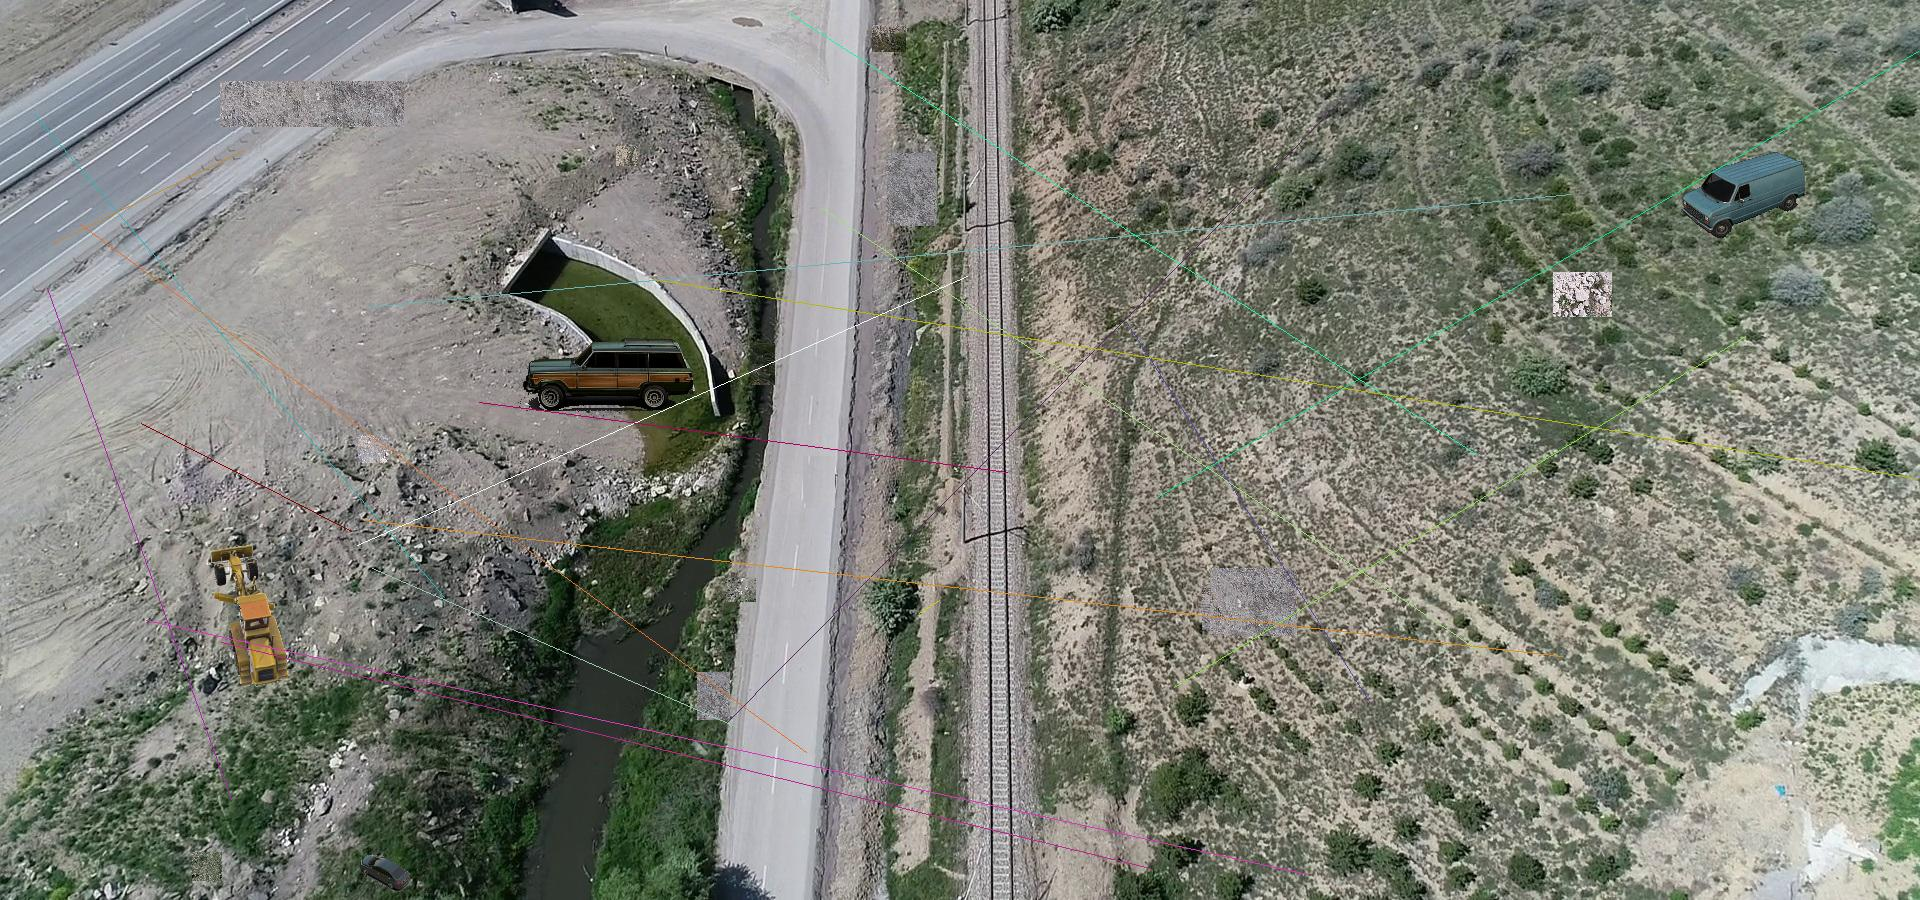arac: (517, 336, 698, 418), (207, 542, 293, 691), (1680, 149, 1805, 238), (360, 853, 411, 891)
